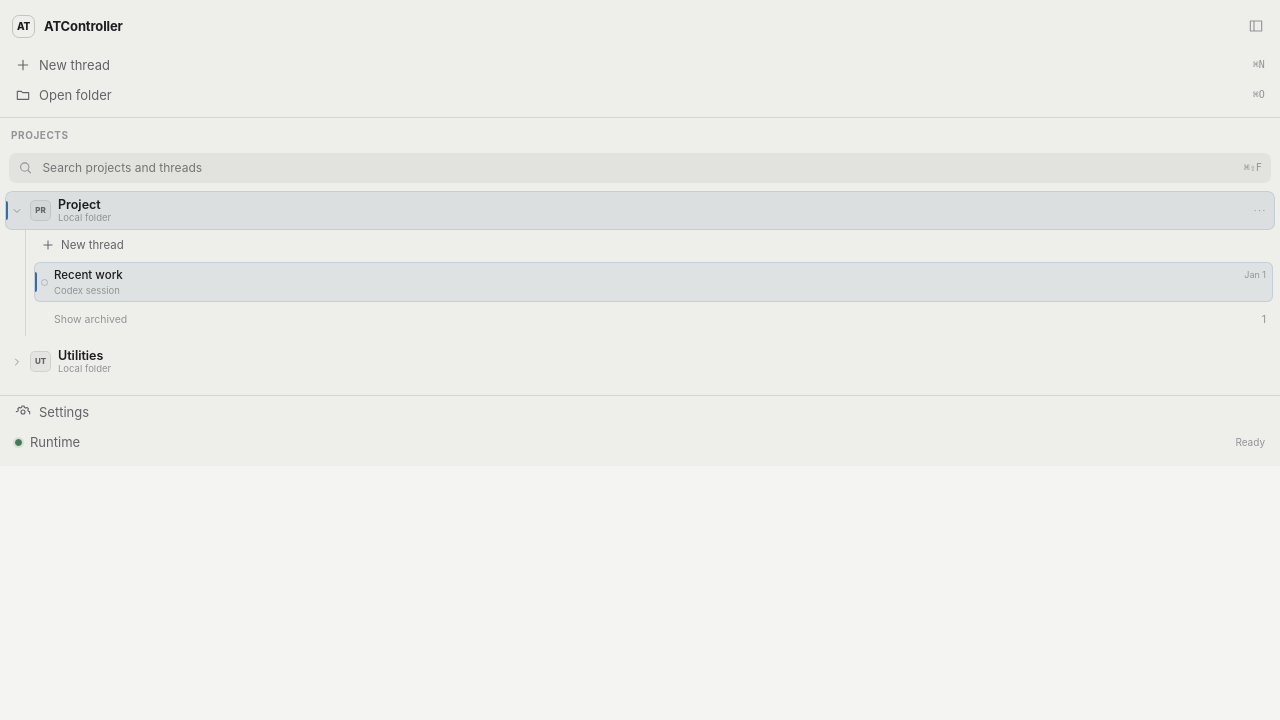
Test: Codex project shelf sidebar › uses project shelves instead of a global project dropdown and keeps archives behind disclosure
Expected: the text "Projects" is shown, [11,128,69,142]
Expected: the list item "PR Project Local folder" is shown, [28,192,1247,229]
Click the button "Show archived 1" at (91, 319), box [34,305,1273,333]
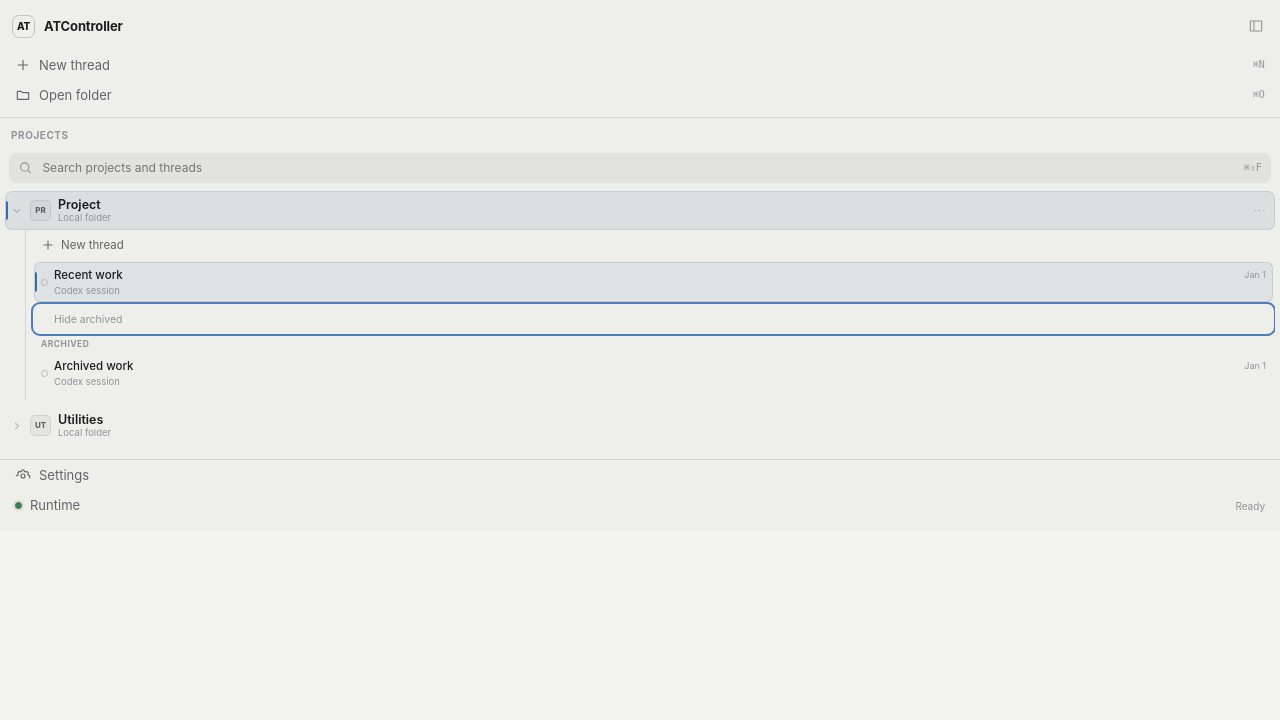
Expected: the list item "Archived work Codex session Jan 1" is shown, [34,353,1273,394]
Click the button "Hide archived" at (88, 319), box [34,305,1273,333]
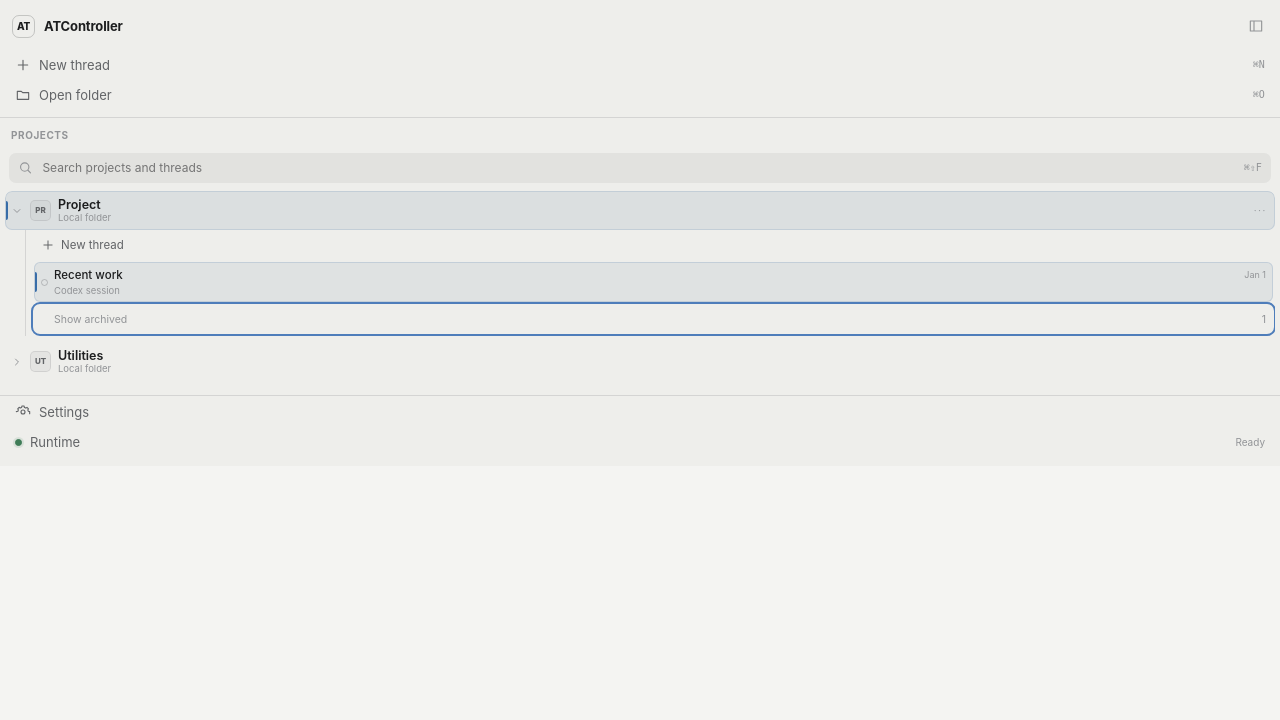
Expected: the list item "Archived work" is gone
